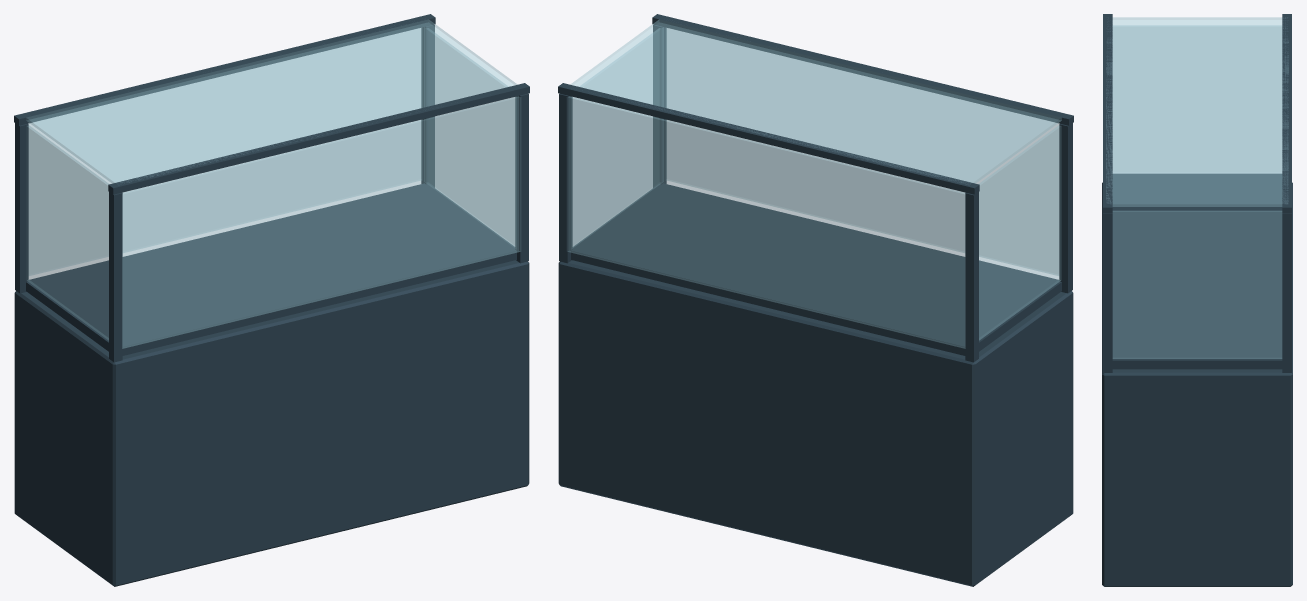
The model's file is display-case.v1.glb.
The picture shows the model from 3 angles, left to right: view 1: azimuth 30°, elevation 25°; view 2: azimuth 150°, elevation 25°; view 3: azimuth 270°, elevation 25°; orthographic projection. The views are drawn at different scales.
Parts seen in each view (by area): view 1: mesh_cabinet, mesh_glass_0.244, mesh_glass_-0.244, mesh_shelf, mesh_glass_top, mesh_glass_side_-0.575, mesh_glass_side_0.575, mesh_top_frame_0.235, mesh_top_frame_-0.235, mesh_post_-0.585_0.235, mesh_post_-0.585_-0.235, mesh_post_0.585_0.235 (+1 smaller); view 2: mesh_cabinet, mesh_glass_-0.244, mesh_glass_0.244, mesh_shelf, mesh_glass_top, mesh_glass_side_-0.575, mesh_glass_side_0.575, mesh_top_frame_-0.235, mesh_top_frame_0.235, mesh_post_-0.585_-0.235, mesh_post_-0.585_0.235, mesh_post_0.585_-0.235 (+1 smaller); view 3: mesh_cabinet, mesh_shelf, mesh_glass_top, mesh_glass_side_-0.575, mesh_glass_side_0.575, mesh_top_frame_-0.235, mesh_top_frame_0.235, mesh_post_0.585_-0.235, mesh_post_0.585_0.235.
Boxes of the visible parts, box(x1,y1,x2,y2) form: mesh_cabinet: box(14, 260, 529, 586); mesh_glass_0.244: box(122, 96, 520, 348); mesh_glass_-0.244: box(28, 28, 421, 275); mesh_shelf: box(26, 183, 516, 355); mesh_glass_top: box(26, 19, 517, 183); mesh_glass_side_-0.575: box(26, 125, 108, 340); mesh_glass_side_0.575: box(424, 28, 516, 248); mesh_top_frame_0.235: box(108, 83, 529, 194); mesh_top_frame_-0.235: box(14, 14, 435, 125); mesh_post_-0.585_0.235: box(109, 192, 122, 362); mesh_post_-0.585_-0.235: box(15, 123, 28, 293); mesh_post_0.585_0.235: box(515, 93, 528, 263); mesh_cabinet: box(558, 260, 1073, 586); mesh_glass_-0.244: box(567, 96, 965, 348); mesh_glass_0.244: box(666, 28, 1059, 275); mesh_shelf: box(571, 183, 1061, 355); mesh_glass_top: box(570, 19, 1061, 183); mesh_glass_side_-0.575: box(979, 125, 1061, 340); mesh_glass_side_0.575: box(571, 28, 663, 248); mesh_top_frame_-0.235: box(558, 83, 979, 194); mesh_top_frame_0.235: box(652, 14, 1073, 125); mesh_post_-0.585_-0.235: box(965, 192, 978, 362); mesh_post_-0.585_0.235: box(1059, 123, 1072, 293); mesh_post_0.585_-0.235: box(559, 93, 572, 263); mesh_cabinet: box(1102, 182, 1292, 586); mesh_shelf: box(1112, 173, 1282, 369); mesh_glass_top: box(1106, 17, 1288, 206); mesh_glass_side_-0.575: box(1113, 25, 1281, 173); mesh_glass_side_0.575: box(1113, 211, 1281, 358); mesh_top_frame_-0.235: box(1282, 14, 1291, 213); mesh_top_frame_0.235: box(1103, 14, 1112, 213); mesh_post_0.585_-0.235: box(1282, 213, 1291, 372); mesh_post_0.585_0.235: box(1103, 213, 1112, 372).
Size of the model in its own units: 1.2 by 1.1 by 0.5.
